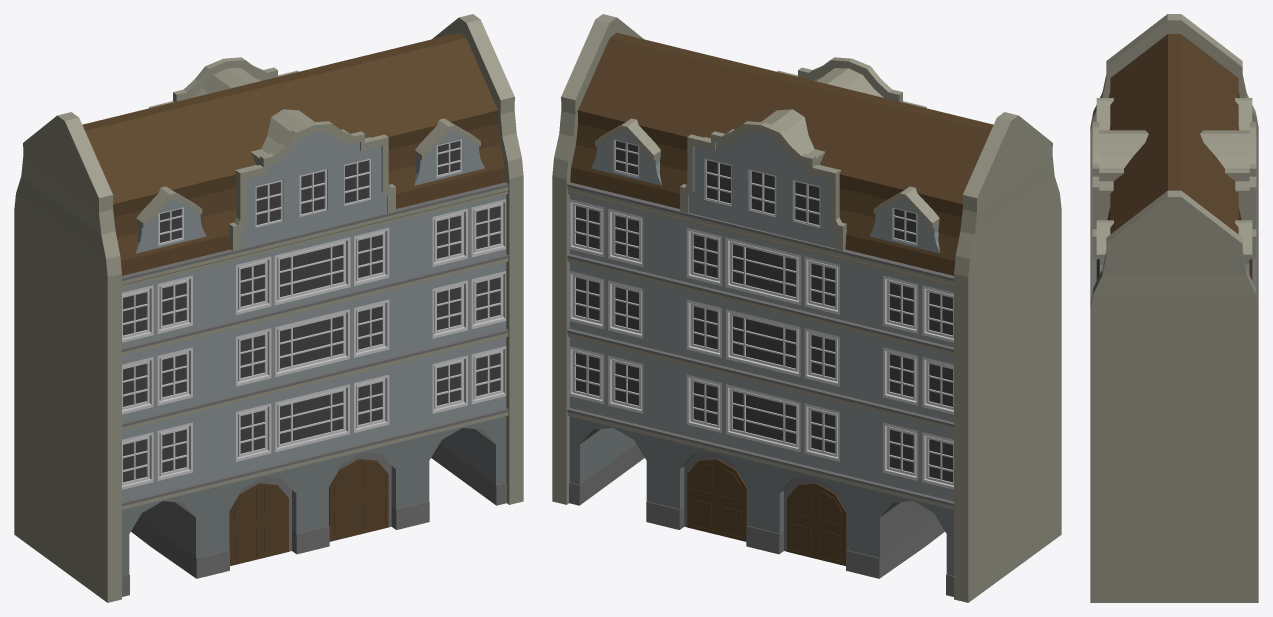
The model's file is house-large.glb.
The picture shows the model from 3 angles, left to right: view 1: azimuth 30°, elevation 25°; view 2: azimuth 150°, elevation 25°; view 3: azimuth 270°, elevation 25°; orthographic projection. The views are drawn at different scales.
Parts seen in each view (by area): view 1: Building2_Large; view 2: Building2_Large; view 3: Building2_Large.
Part boxes in pixels (<box>): Building2_Large: <box>14,14,523,602</box>; Building2_Large: <box>552,14,1061,602</box>; Building2_Large: <box>1090,14,1258,602</box>.
Bounding box in the file's own units: 5.72 × 5.92 × 2.22.
